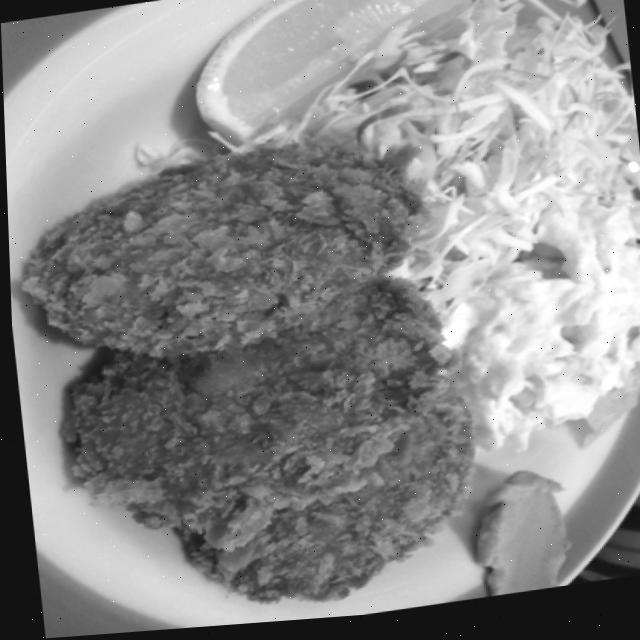炸货点心: (3, 82, 520, 640)
